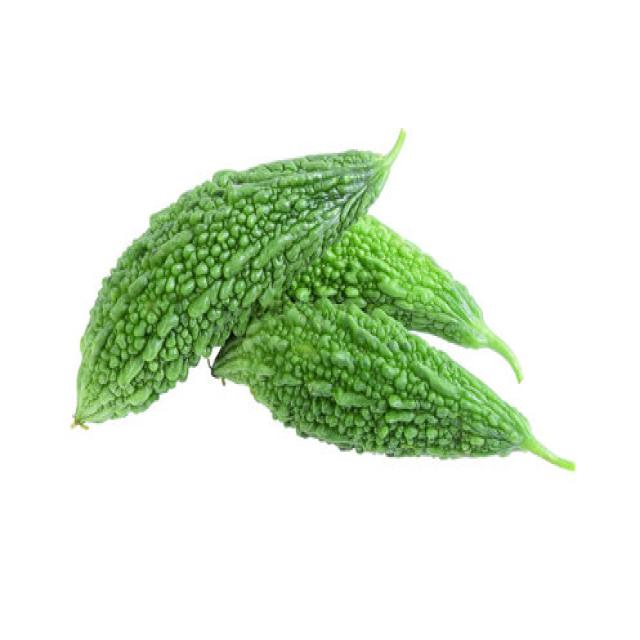Bitter_Gourd: (76, 138, 579, 484)
